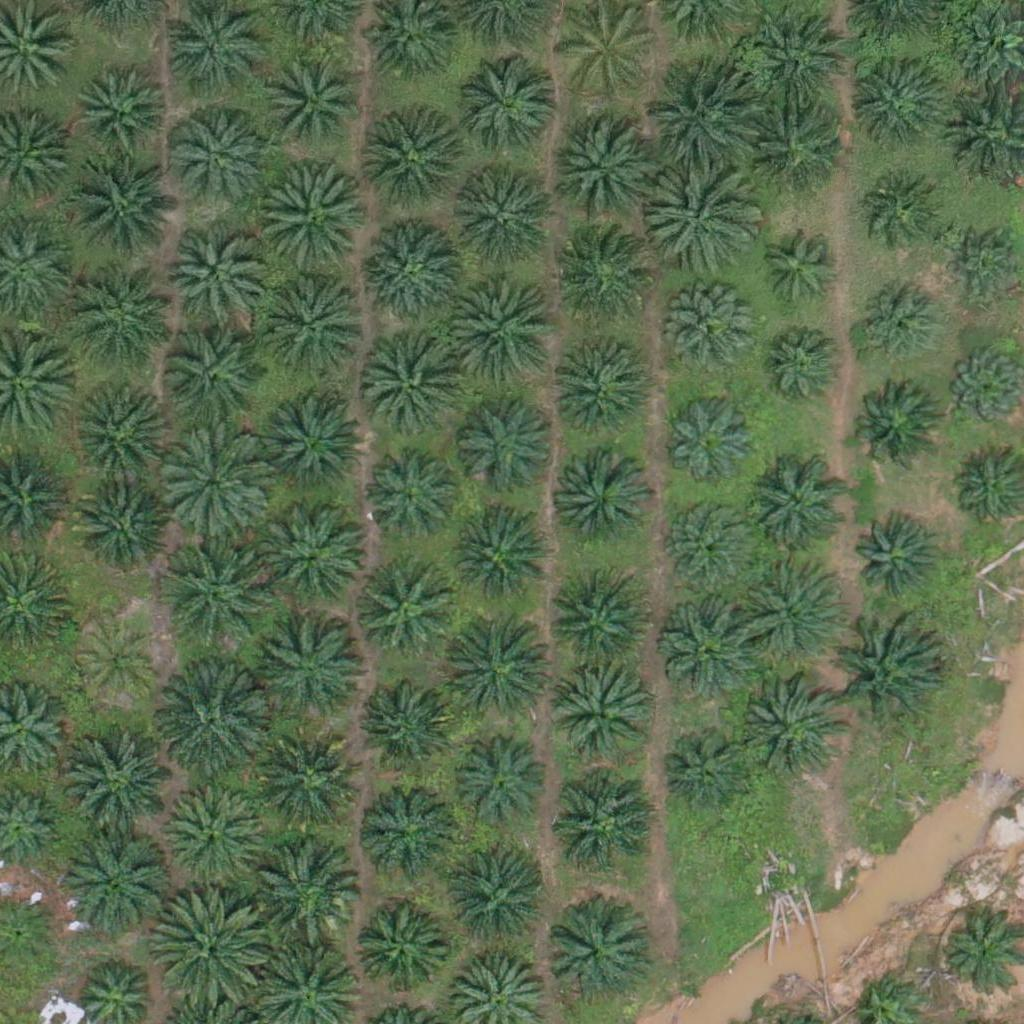Kelapa_Sawit: (155, 540, 268, 654), (255, 164, 368, 277), (447, 271, 560, 384), (828, 616, 941, 729), (248, 833, 361, 946), (155, 666, 268, 779), (453, 161, 565, 275), (646, 160, 758, 274), (646, 68, 758, 182), (153, 886, 265, 1000), (65, 153, 177, 266), (156, 425, 268, 538), (257, 268, 369, 381), (556, 110, 668, 223), (731, 553, 843, 666), (443, 611, 555, 724), (62, 732, 174, 845), (57, 825, 169, 938), (64, 379, 164, 480), (74, 279, 174, 380), (168, 106, 268, 207), (165, 222, 265, 323), (263, 387, 363, 488), (264, 53, 364, 154), (358, 110, 458, 211), (364, 218, 464, 319), (363, 343, 463, 444), (456, 395, 556, 496), (463, 54, 563, 155), (549, 230, 649, 331), (553, 345, 653, 446), (554, 453, 654, 554), (751, 8, 851, 109), (749, 100, 849, 201), (847, 51, 947, 152), (543, 905, 643, 1006), (348, 899, 448, 1000), (737, 677, 837, 778), (662, 594, 762, 695), (546, 663, 646, 764), (546, 575, 646, 676), (450, 507, 550, 608), (164, 787, 264, 888), (158, 329, 258, 429), (662, 392, 762, 492), (748, 456, 848, 556), (448, 856, 548, 956), (552, 773, 652, 873), (448, 732, 548, 832), (360, 777, 460, 877), (352, 557, 452, 657), (357, 673, 457, 773), (263, 506, 363, 606), (263, 623, 363, 723), (255, 736, 355, 836), (65, 476, 165, 576), (753, 323, 841, 412), (667, 499, 755, 588), (859, 177, 947, 265), (74, 619, 162, 707), (750, 230, 837, 318), (853, 281, 940, 369), (849, 381, 936, 469), (75, 64, 162, 152), (366, 452, 453, 540), (669, 293, 756, 381), (854, 518, 941, 606), (663, 725, 750, 813)
